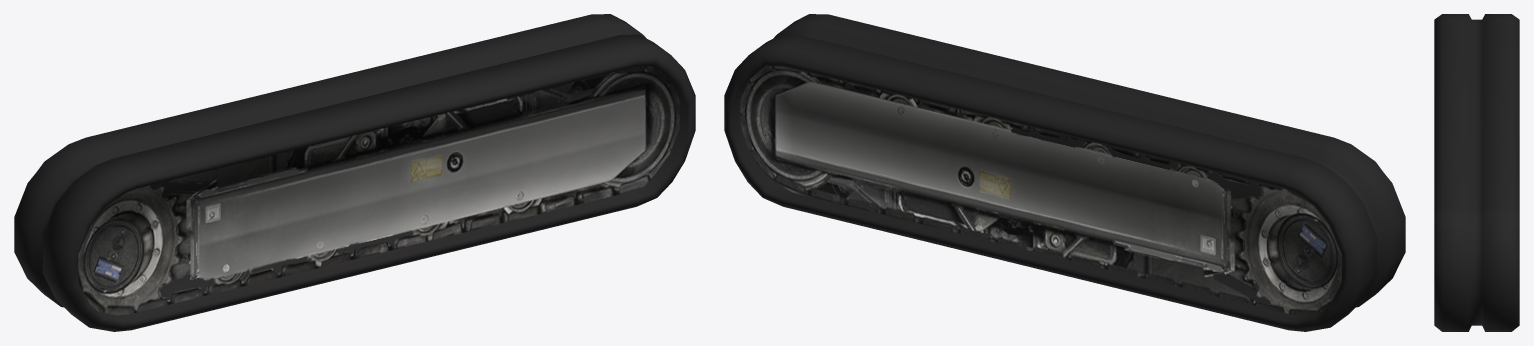
File: track_wheel.dae
The picture shows the model from 3 angles, left to right: view 1: azimuth 30°, elevation 25°; view 2: azimuth 150°, elevation 25°; view 3: azimuth 270°, elevation 25°; orthographic projection. The views are drawn at different scales.
Parts seen in each view (by area): view 1: Cube; view 2: Cube; view 3: Cube.
Part boxes in pixels (x1,y1,x2,y2): Cube: (14,14,695,331); Cube: (724,14,1405,331); Cube: (1434,14,1519,331).
Size of the model in its own units: 3.95 by 0.6036 by 0.9457.
1 material, 1 textured.
